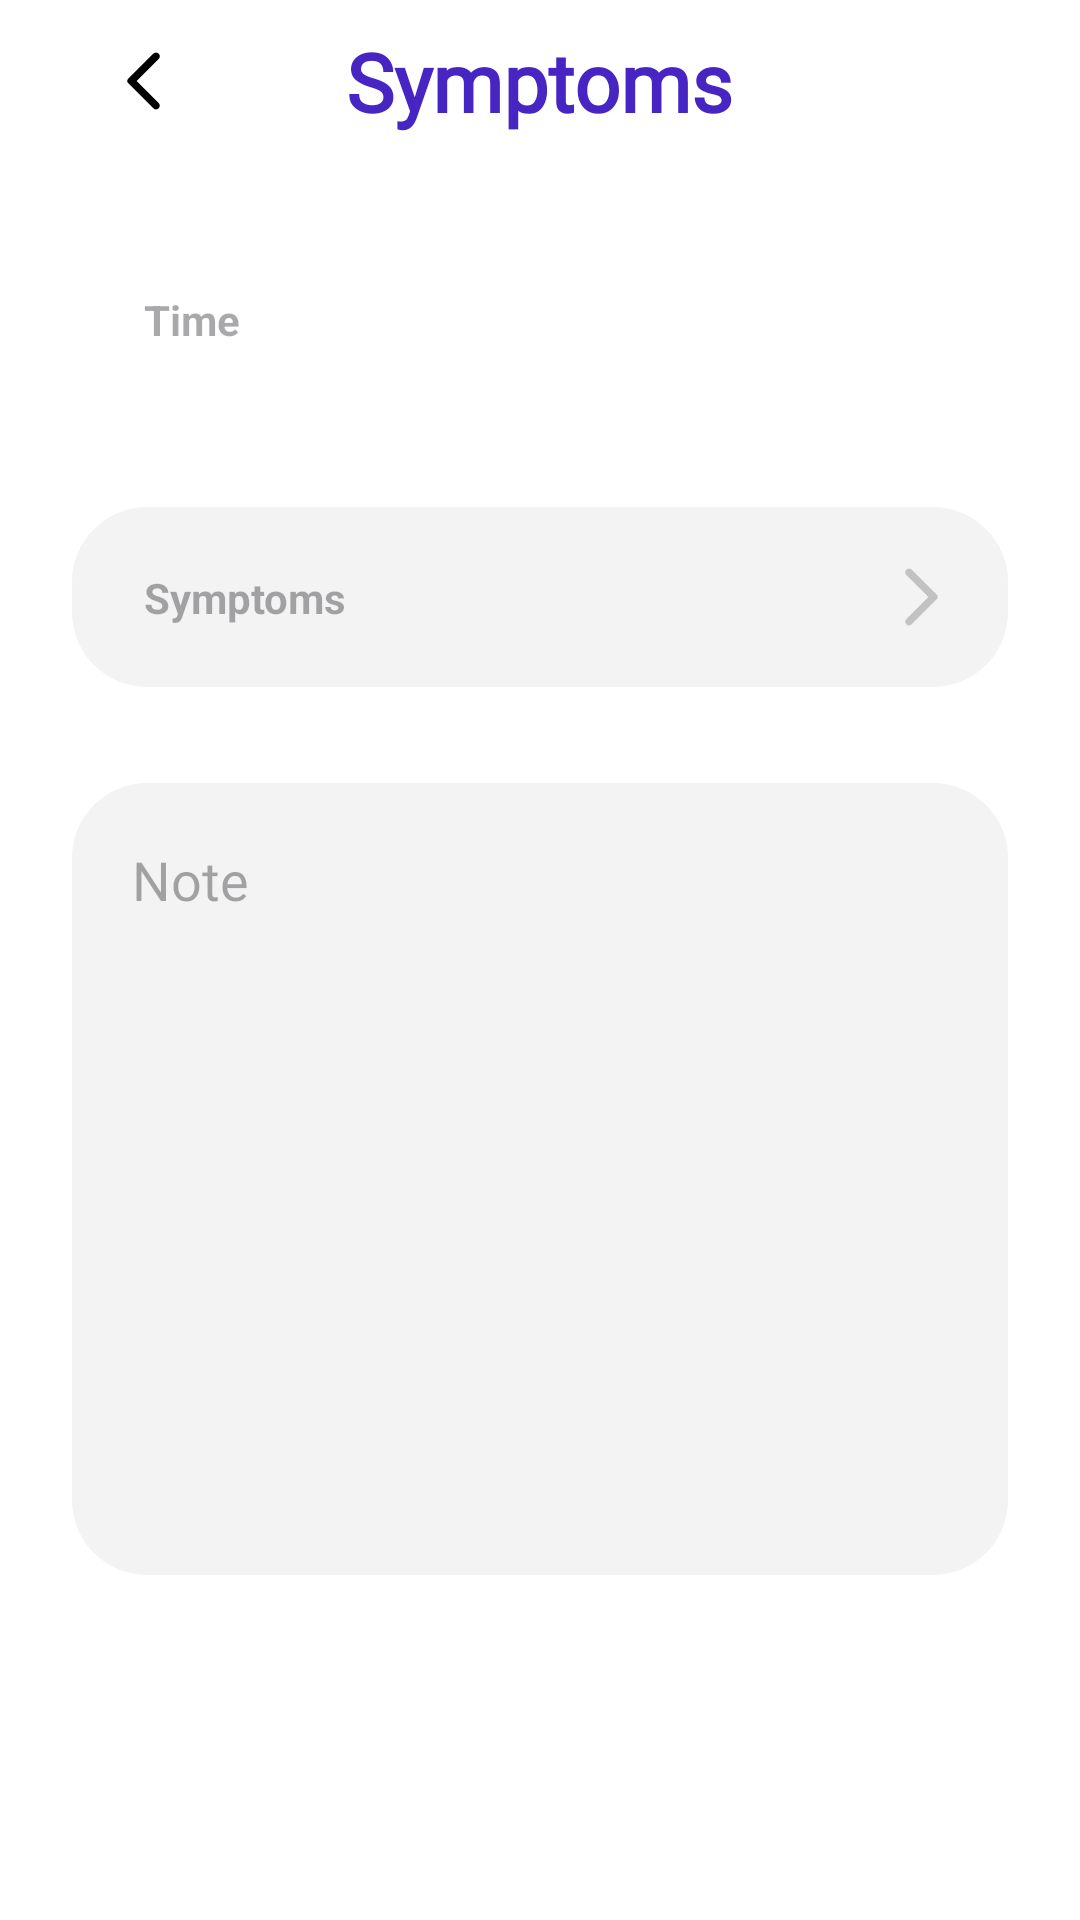

Icon click points for this 1080 x 1920 phone screenshot, format [x,y]:
back: [143,81]
